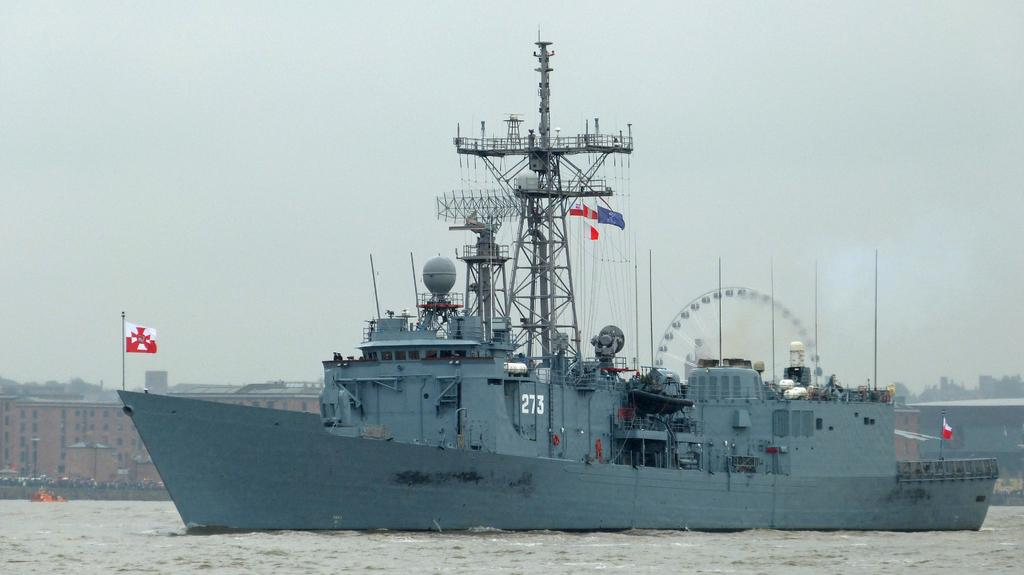Warship: (106, 50, 1018, 536)
